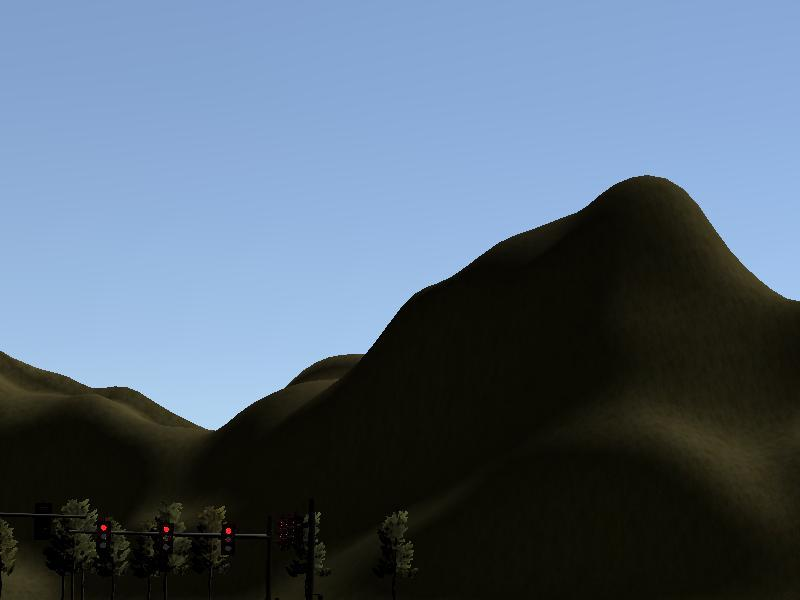Red: (157, 524, 173, 558), (96, 522, 110, 556), (222, 522, 234, 552)
